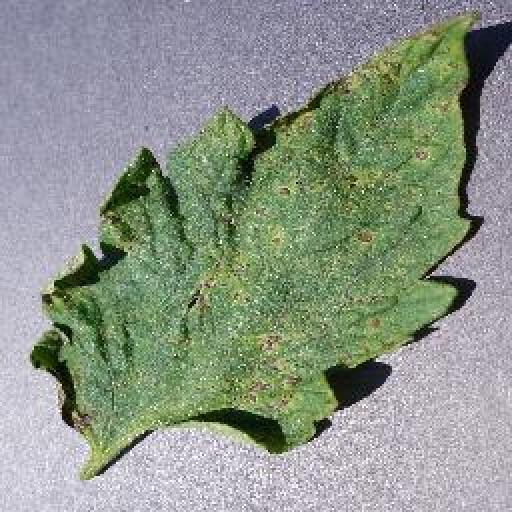disease_tomato: (28, 7, 477, 456)
